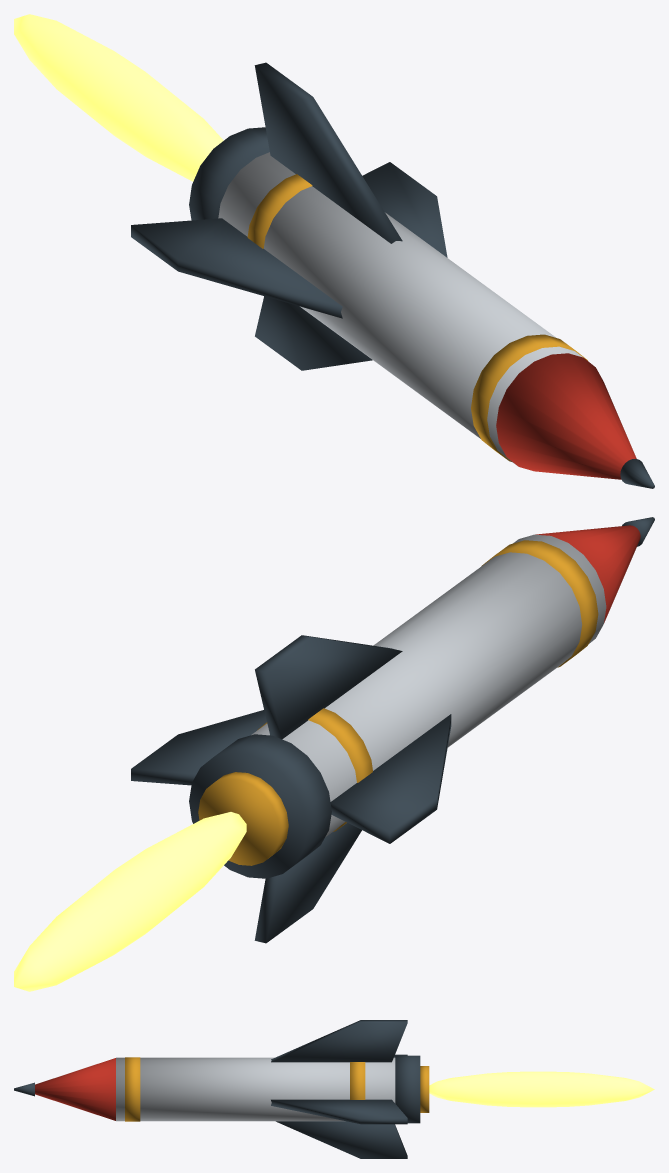
Rendered from PV_Missile.fbx.
3 views of the same model, one above another, from view 1: azimuth 30°, elevation 25°; view 2: azimuth 150°, elevation 25°; view 3: azimuth 270°, elevation 25° (orthographic). The views are drawn at different scales.
Visible parts, largest first — view 1: PV_MissileBody_LOD0, PV_MissileExhaust; view 2: PV_MissileBody_LOD0, PV_MissileExhaust; view 3: PV_MissileBody_LOD0, PV_MissileExhaust.
Boxes of the visible parts, x1,y1,x2,y2 form: PV_MissileBody_LOD0: (131, 62, 654, 488); PV_MissileExhaust: (14, 14, 223, 181); PV_MissileBody_LOD0: (131, 517, 654, 943); PV_MissileExhaust: (14, 812, 246, 991); PV_MissileBody_LOD0: (14, 1020, 429, 1158); PV_MissileExhaust: (429, 1071, 654, 1107).
Size of what is drawn, in the model's own units: 0.54 by 0.54 by 2.31.
